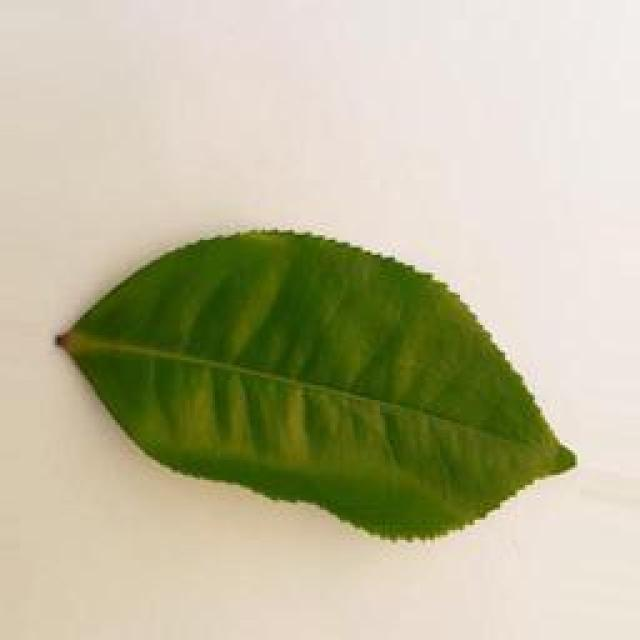Healthy: (43, 216, 588, 552)
